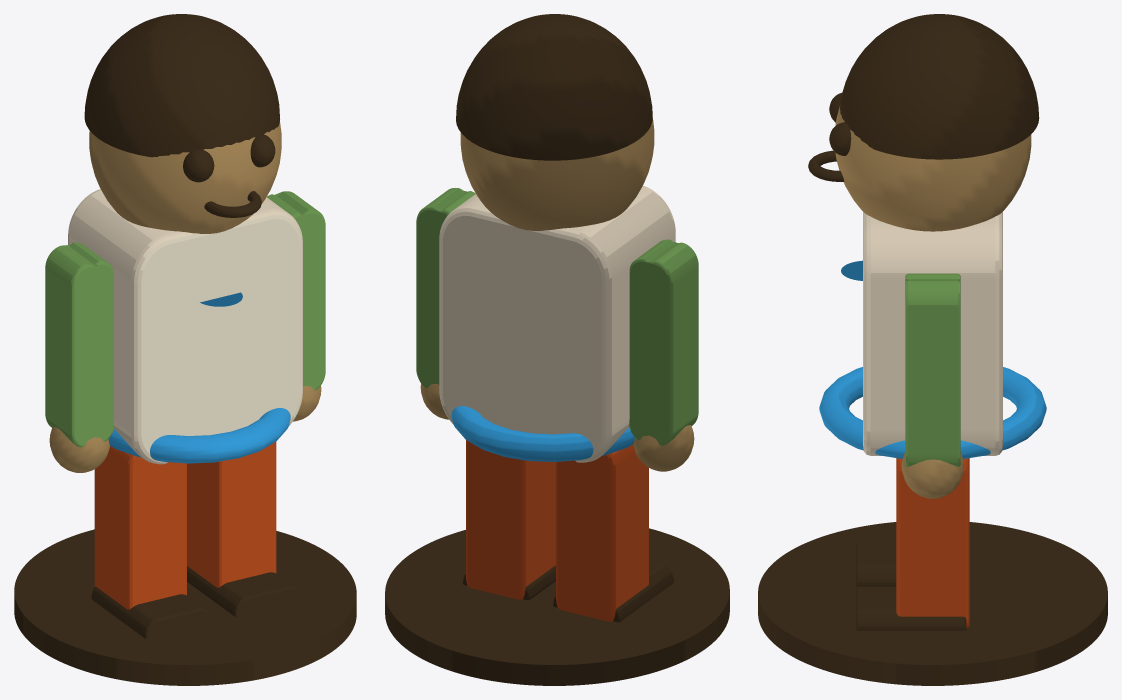
3 renders of one model, left to right at view 1: azimuth 30°, elevation 25°; view 2: azimuth 150°, elevation 25°; view 3: azimuth 270°, elevation 25°, orthographic.
Parts seen in each view (by area): view 1: card_0682; view 2: card_0682; view 3: card_0682.
Boxes of the visible parts, <box> form: card_0682: <box>14,14,356,685</box>; card_0682: <box>385,14,729,685</box>; card_0682: <box>758,14,1107,685</box>.
Size of the model in its own units: 0.525 by 1 by 0.5363.
